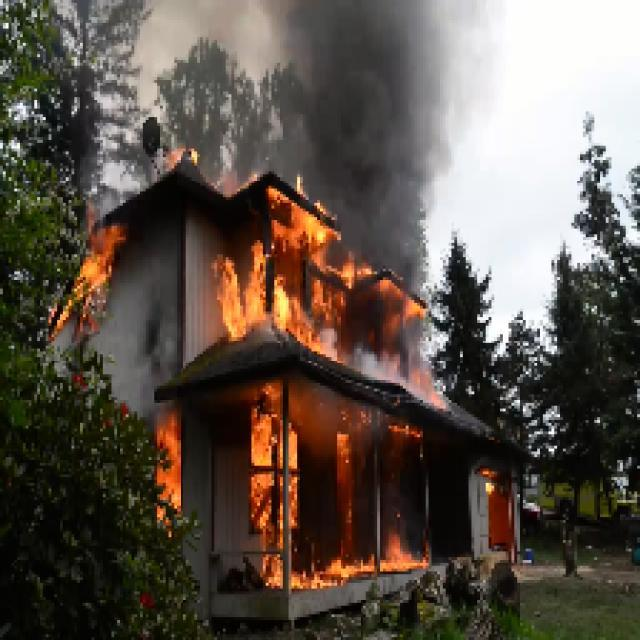Fire: (220, 194, 350, 338), (256, 420, 300, 528)
Smoke: (304, 14, 429, 222), (103, 306, 163, 399)
